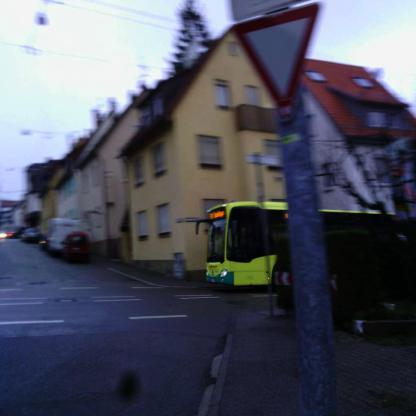Bus: (196, 200, 397, 289)
